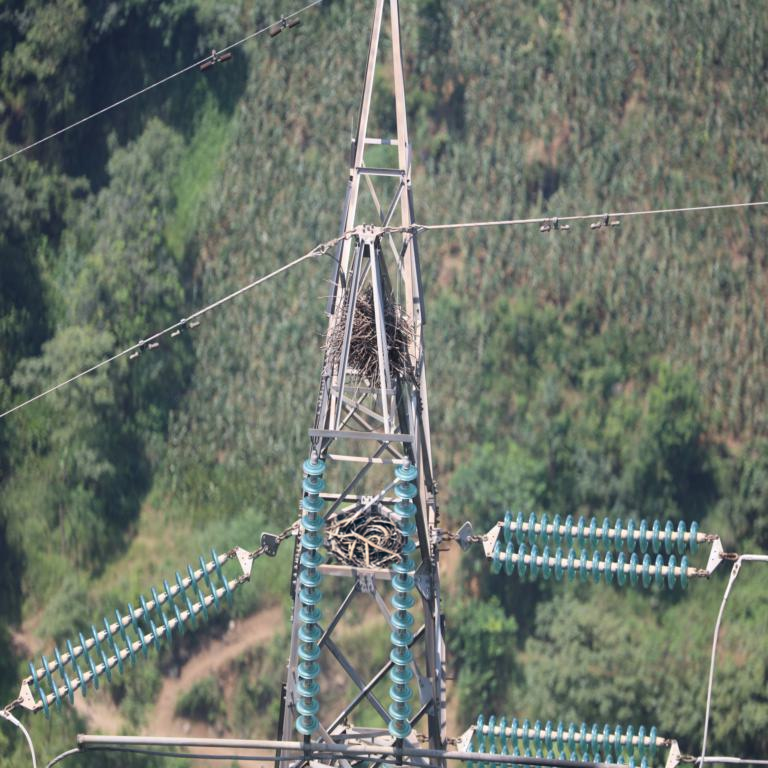nest: (332, 292, 410, 390), (328, 512, 404, 570)
